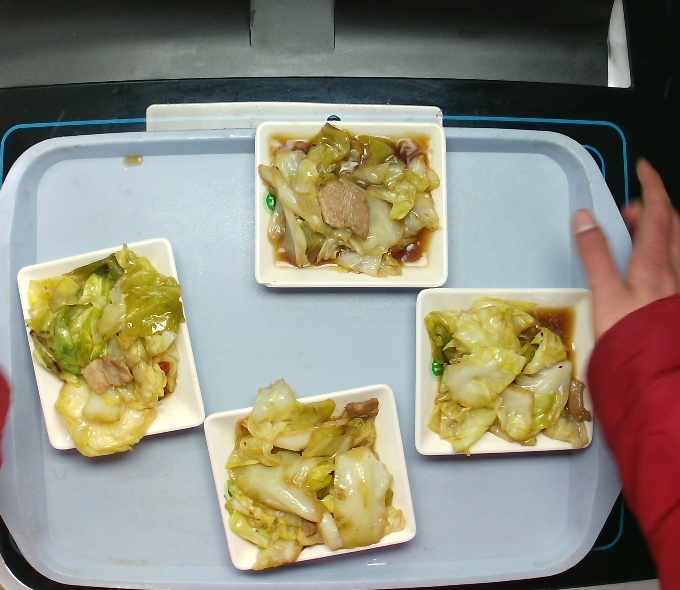wcq-JuanXinCaiChaoRou: (201, 378, 411, 580), (20, 240, 187, 461), (415, 292, 595, 471), (255, 117, 449, 282)
